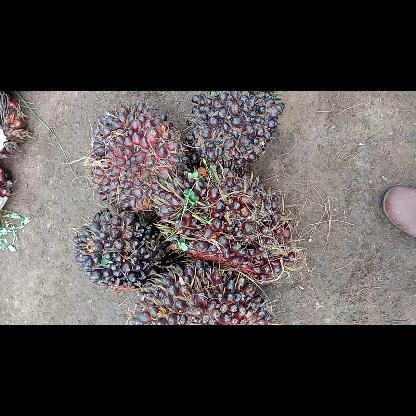TBS mentah: (152, 163, 296, 285), (85, 100, 189, 212), (127, 260, 279, 324), (70, 204, 176, 292), (184, 92, 286, 172)
